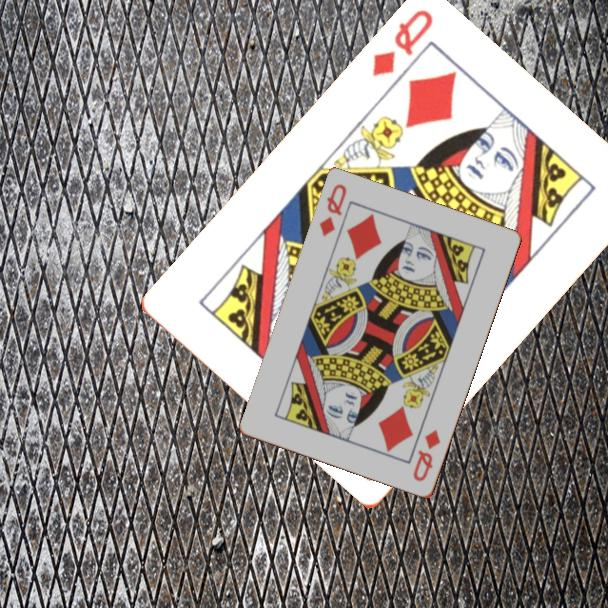d12: (368, 6, 436, 81), (409, 426, 444, 485), (316, 181, 350, 240)
